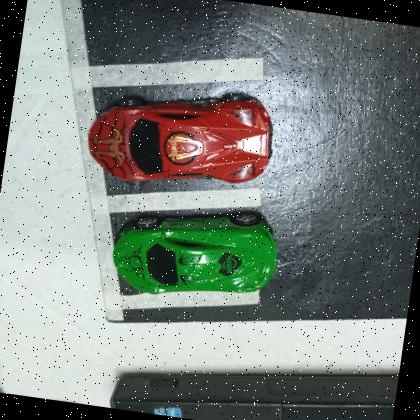Car: (87, 97, 273, 183), (113, 211, 277, 294)
